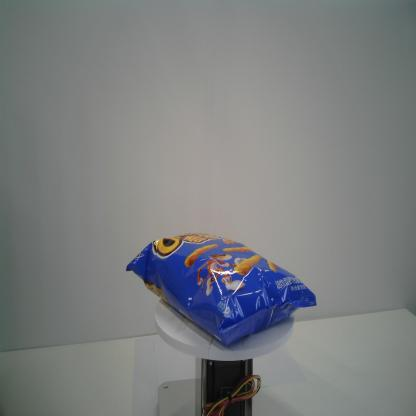Puffed Food: (125, 228, 317, 346)
